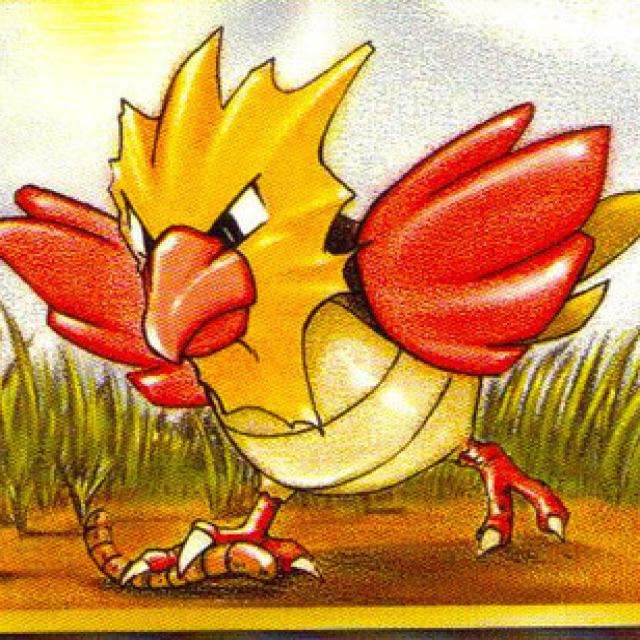Spearow: (79, 62, 557, 528)
